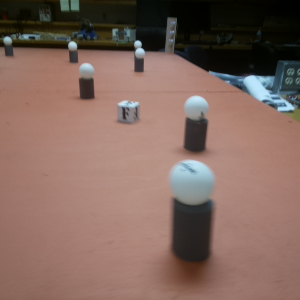blockF: (116, 98, 138, 127)
corner: (164, 17, 178, 51)
obstacle: (172, 159, 216, 261), (182, 95, 210, 151), (78, 63, 95, 100), (133, 47, 148, 74), (66, 41, 80, 64), (5, 36, 15, 57), (132, 40, 142, 56)
